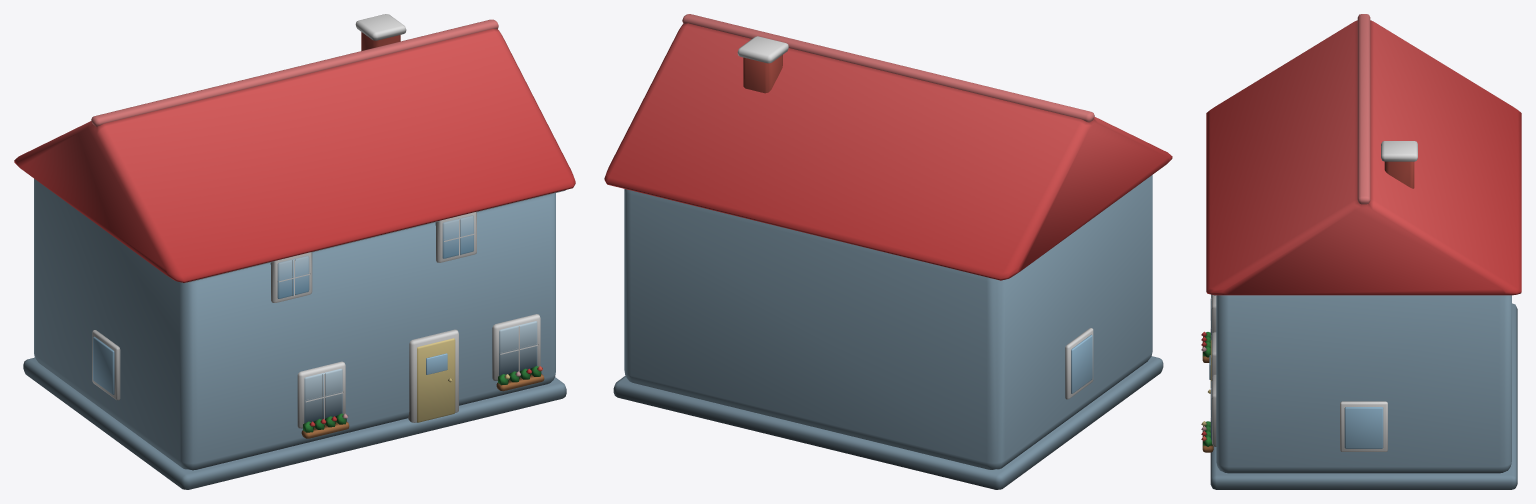
Rendered from prop-house-c.glb.
3 views of the same model, side by side, from view 1: azimuth 30°, elevation 25°; view 2: azimuth 150°, elevation 25°; view 3: azimuth 270°, elevation 25° (orthographic). The views are drawn at different scales.
Parts seen in each view (by area): view 1: house_c; view 2: house_c; view 3: house_c.
Boxes of the visible parts, bbox=[...] form: house_c: bbox=[14, 14, 575, 489]; house_c: bbox=[604, 14, 1172, 489]; house_c: bbox=[1201, 14, 1521, 489].
Size of the model in its own units: 11.9 by 9.05 by 8.67.
